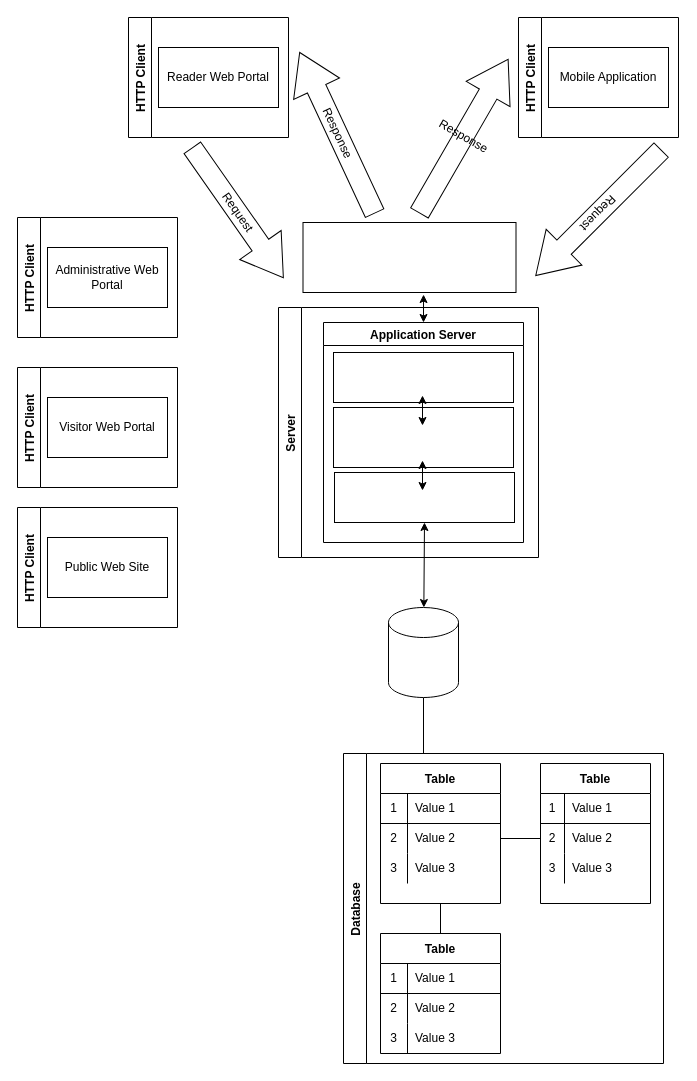
Some shapes in this 697 by 1081 pixel diagram are drawn without their labels. The shapes that lost their labels are listed below. From the top down, each one's centre as x and y in pixels, then its label:
At pixel 409 257: "HTTP Server (IIS, Apache)".
At pixel 423 377: "HTTP Communication Layer".
At pixel 423 437: "Business Logic".
At pixel 424 497: "Data Access Layer".
At pixel 423 652: "Books Database".
